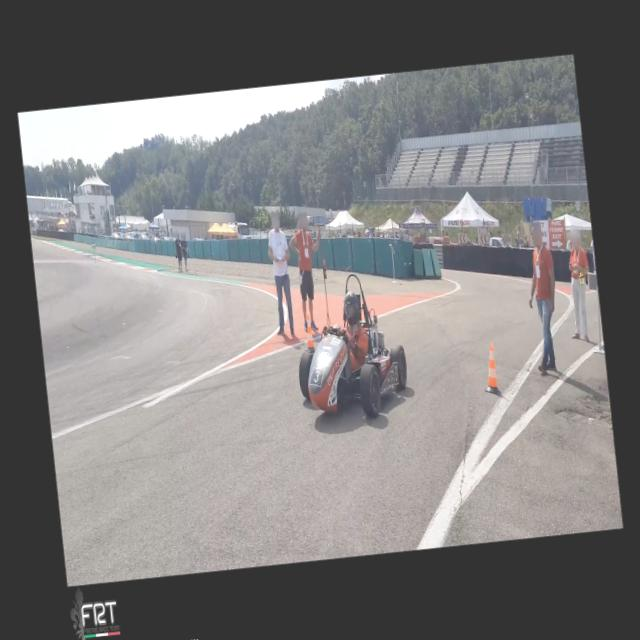large_orange_cone: (480, 342, 500, 397), (302, 314, 316, 353)
